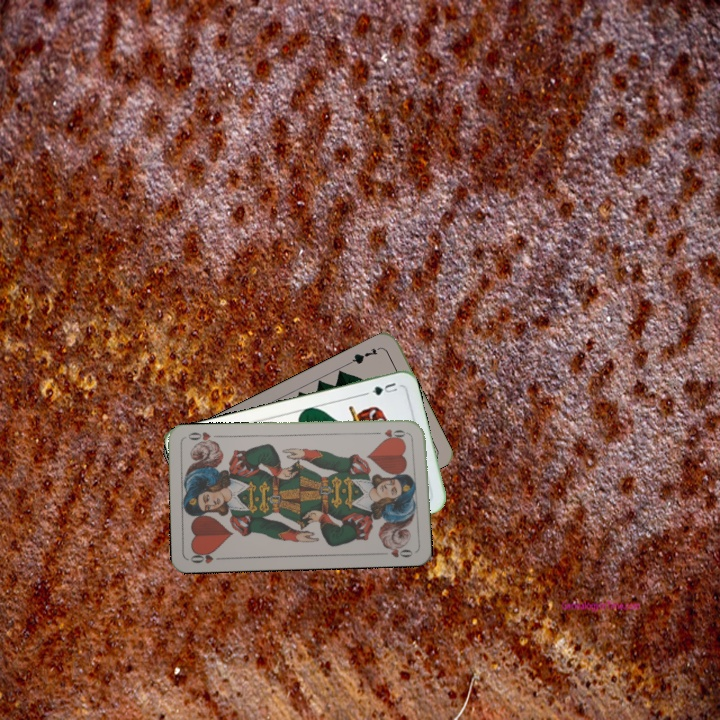G7: (345, 344, 380, 367)
GU: (362, 378, 400, 398)
HO: (187, 548, 227, 566), (371, 425, 411, 441)
